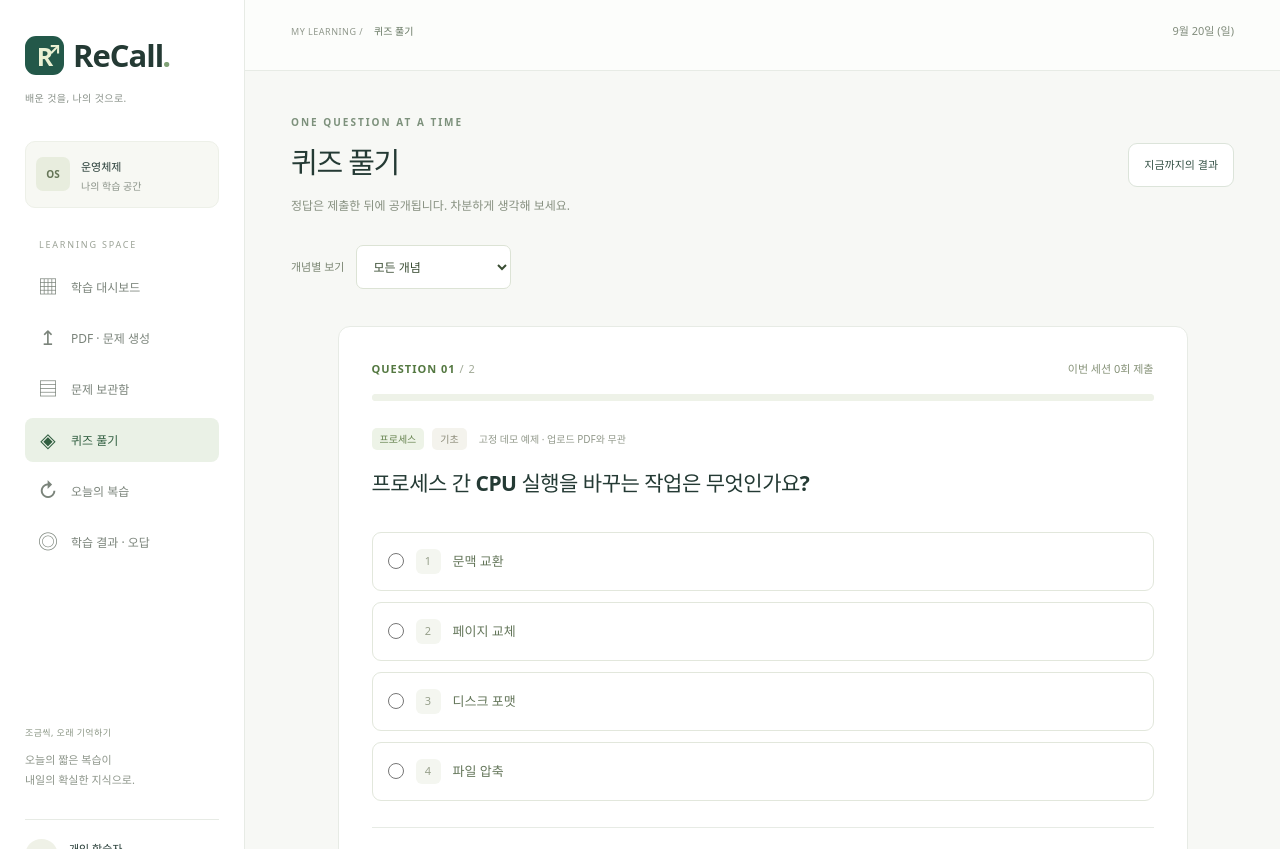
Test: ReCall real API workflows › skips a deleted first question after 404 and completes the next question without retry locking
Expected: the heading "프로세스 간 CPU 실행을 바꾸는 작업은 무엇인가요?" is shown, x1=372 y1=469 x2=809 y2=497
Click the radio button labelled "1 문맥 교환".
click(396, 561)  # box x1=388 y1=553 x2=404 y2=569
(page scrolled)
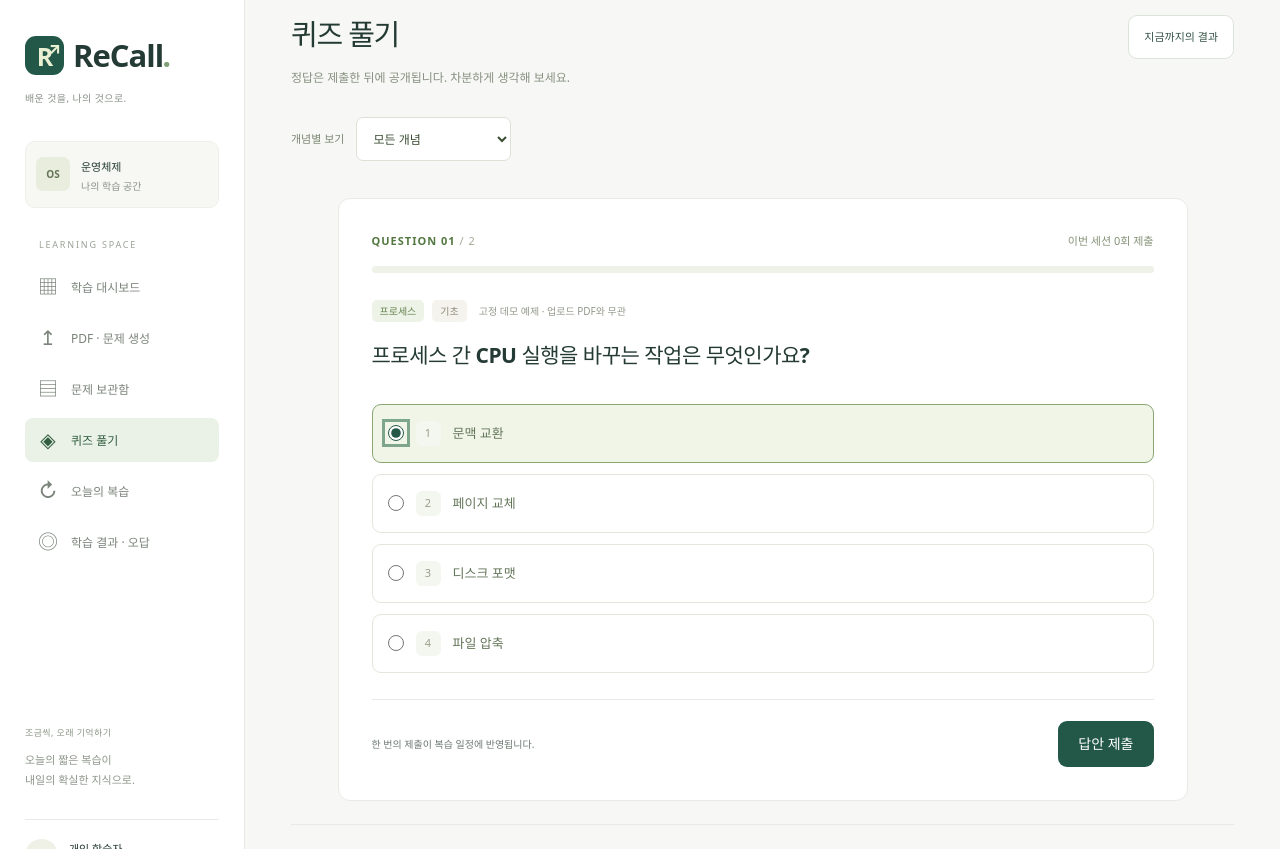
Click the button "답안 제출".
click(1106, 744)  # box x1=1058 y1=721 x2=1154 y2=767
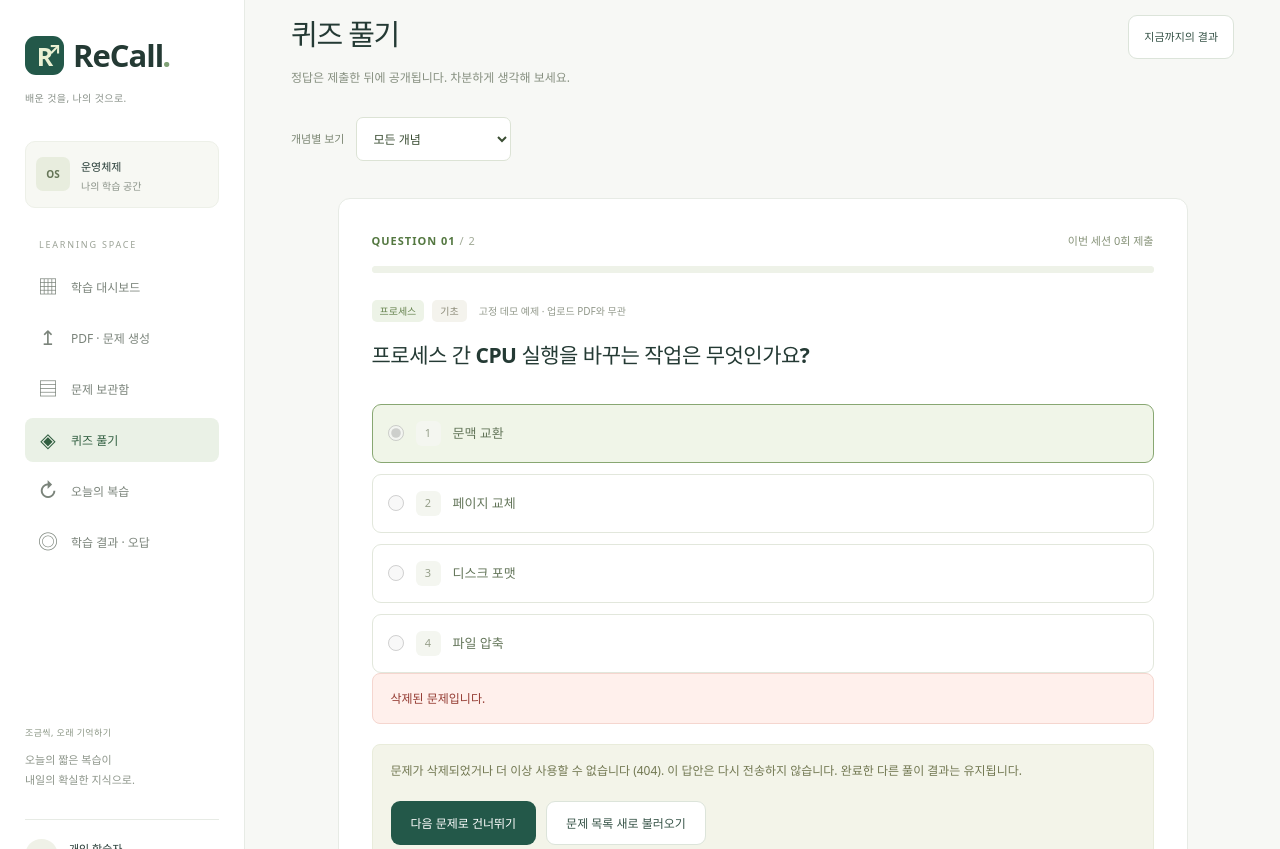
Expected: the button "다음 문제로 건너뛰기" is shown
Expected: the button "답안 제출" is gone
Click the button "다음 문제로 건너뛰기".
click(463, 824)  # box x1=390 y1=802 x2=536 y2=846
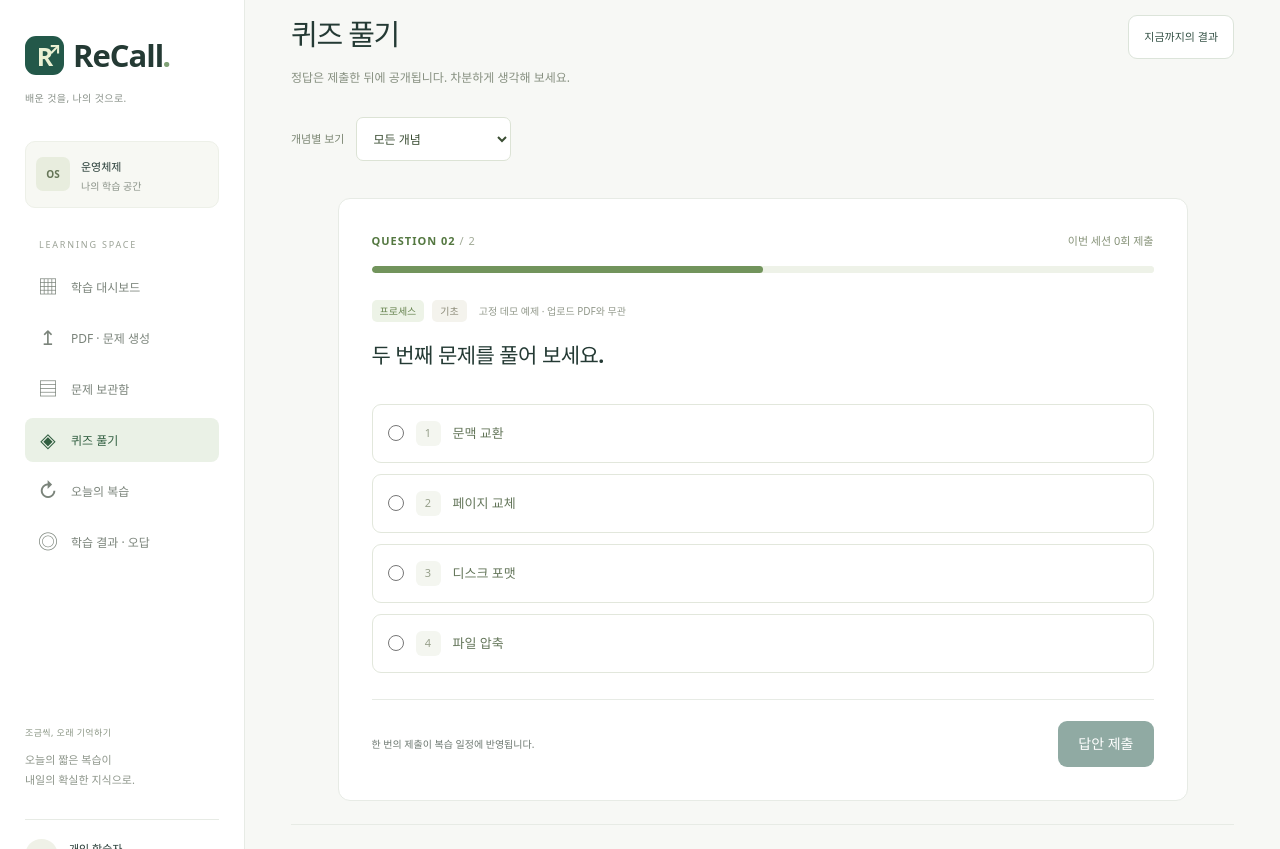
Expected: the heading "두 번째 문제를 풀어 보세요." is shown, x1=372 y1=341 x2=604 y2=369
Click the radio button labelled "1 문맥 교환".
click(396, 433)  # box x1=388 y1=425 x2=404 y2=441
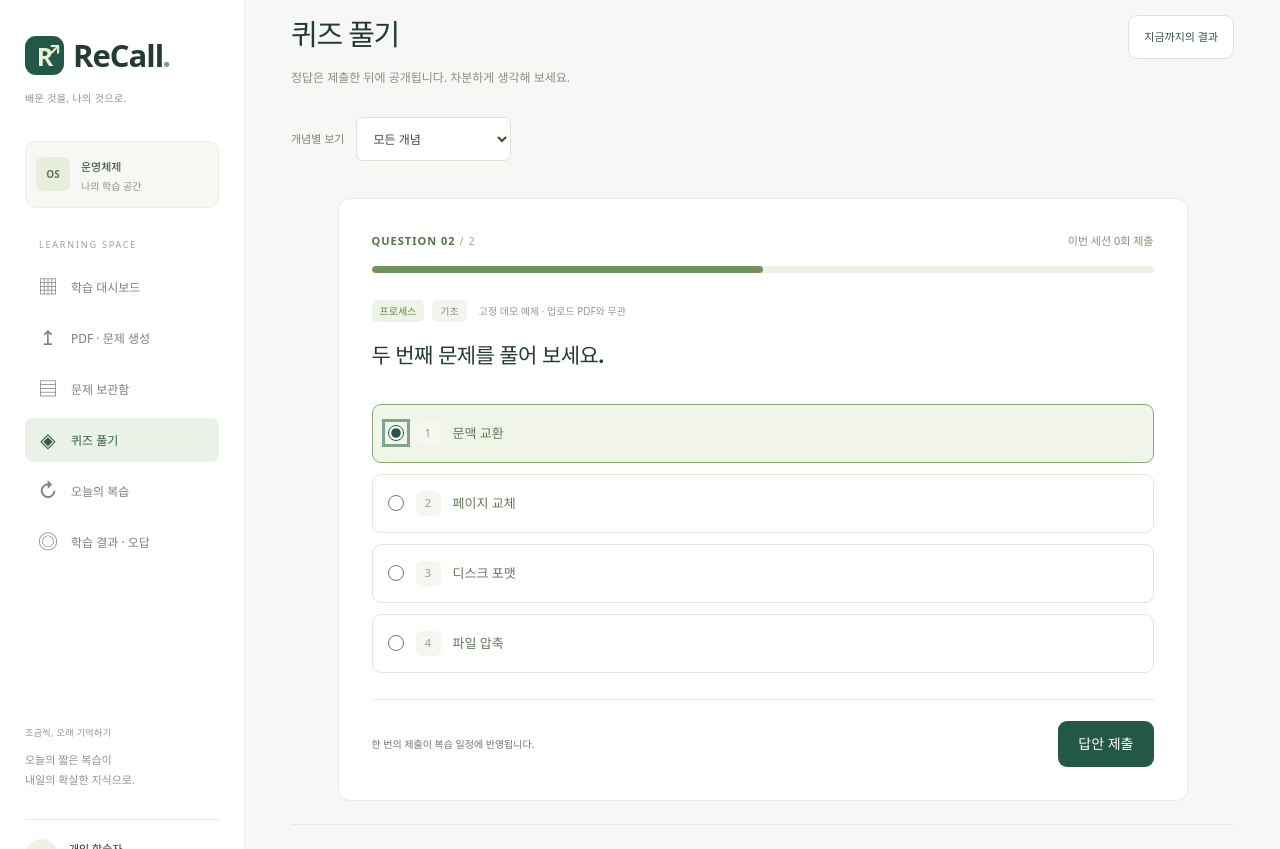
Click the button "답안 제출".
click(1106, 744)  # box x1=1058 y1=721 x2=1154 y2=767
(page scrolled)
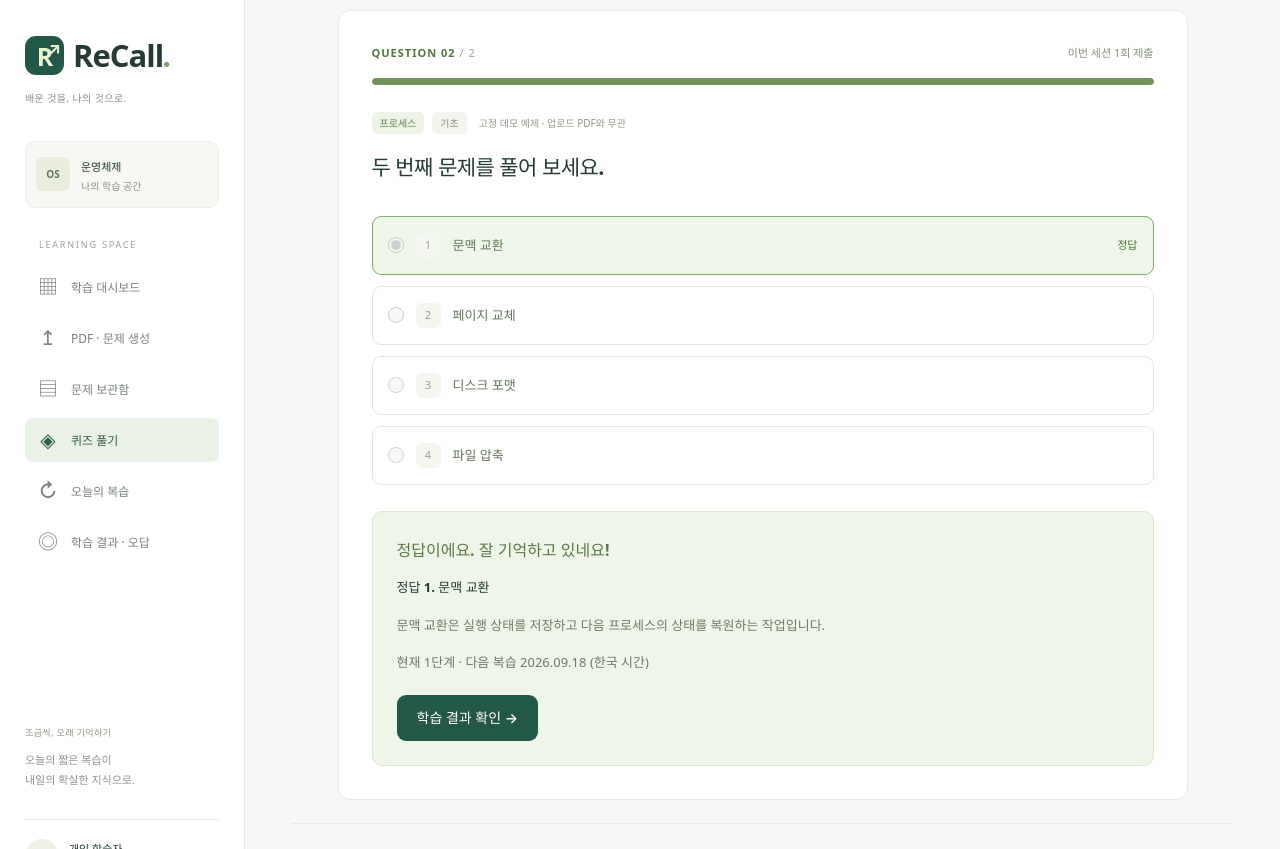
Expected: the text "문맥 교환은 실행 상태를 저장하고 다음 프로세스의 상태를 복원하는 작업입니다." is shown, x1=396 y1=616 x2=825 y2=634
Click the button "학습 결과 확인 →".
click(467, 718)  # box x1=396 y1=695 x2=538 y2=741
(page scrolled)
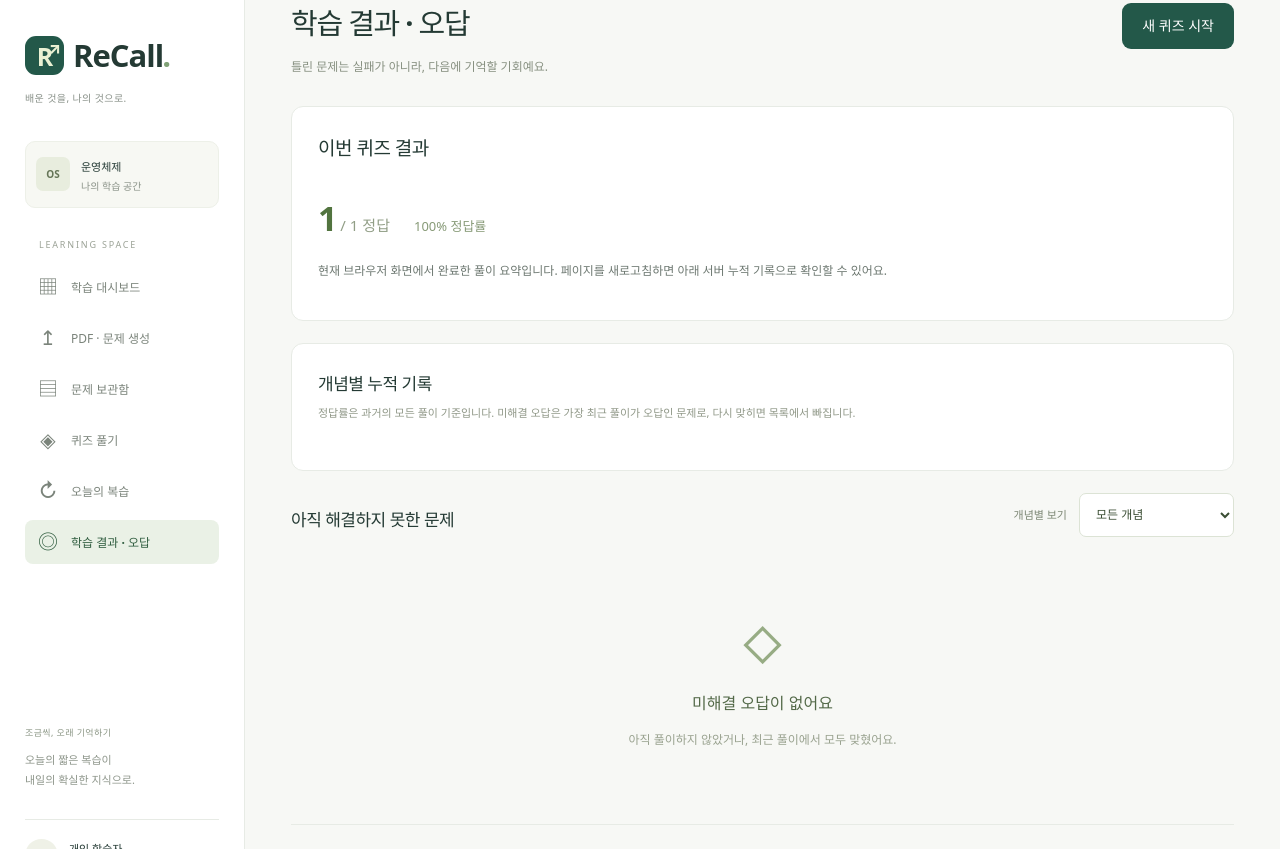
Expected: the text "100% 정답률" is shown, x1=414 y1=216 x2=486 y2=236
Expected: the text "/ 1 정답" is shown, x1=336 y1=215 x2=390 y2=235
